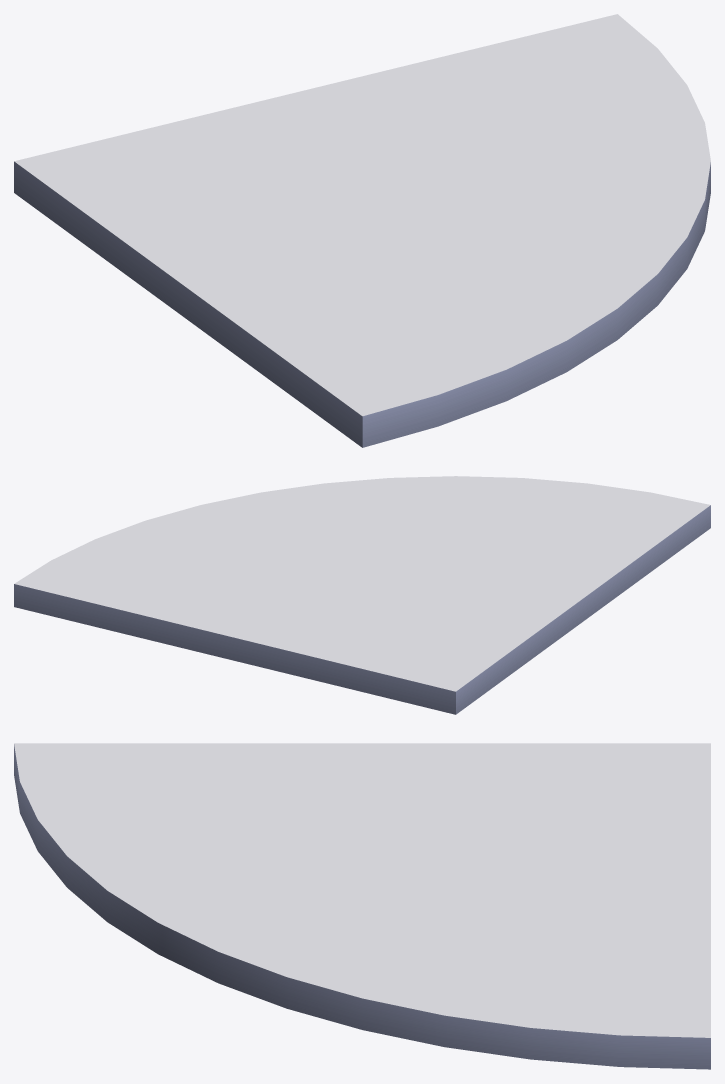
Rendered from building_floor_corner_round.glb.
The picture shows the model from 3 angles, top to bottom: view 1: azimuth 30°, elevation 25°; view 2: azimuth 150°, elevation 25°; view 3: azimuth 270°, elevation 25°; orthographic projection. The views are drawn at different scales.
Visible parts, largest first — view 1: floor-corner-round; view 2: floor-corner-round; view 3: floor-corner-round.
Part boxes in pixels (x1,y1,x2,y2): floor-corner-round: (14,14,710,447); floor-corner-round: (14,476,710,714); floor-corner-round: (14,743,710,1069).
Size of the model in its own units: 2 by 0.1 by 2.
Materials: 1 (1 with a texture image).
